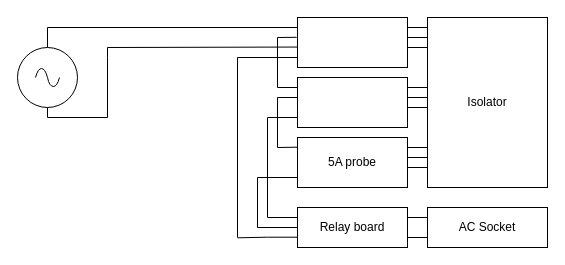
Some shapes in this 565 by 265 pixel diagram are drawn without their labels. The shapes that lost their labels are listed below. From the top down, each one's centre as x and y in pixels, then its label:
point 352,42: Voltage probe
point 352,102: 0.5A probe
